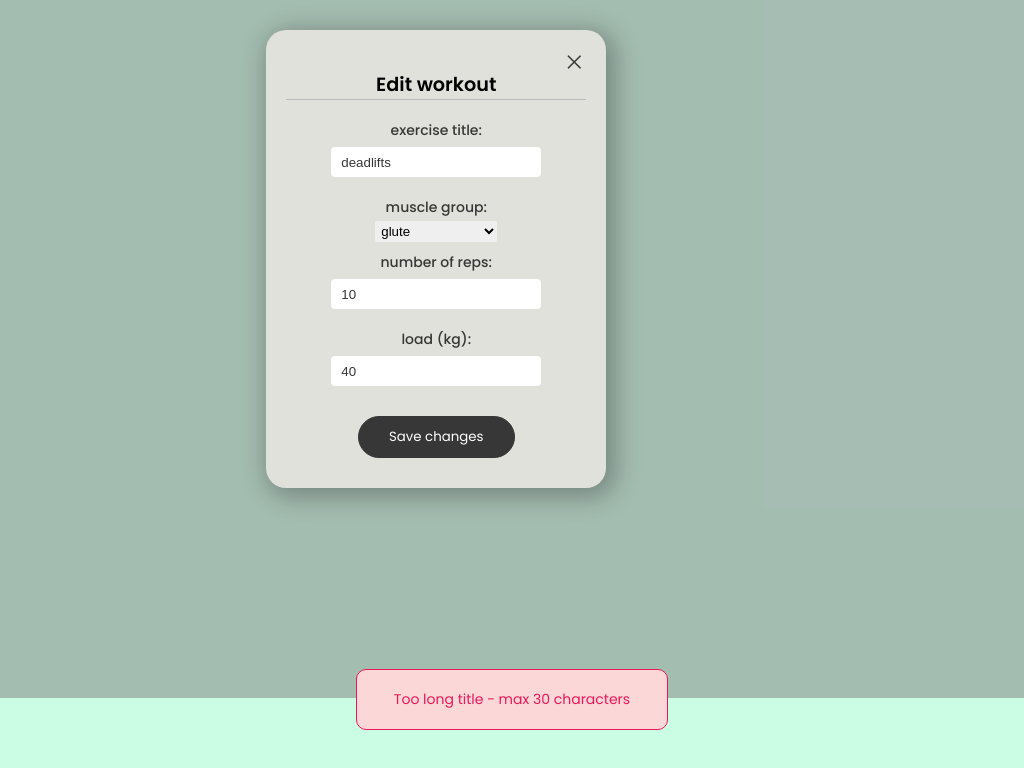
<EditWorkout/> › should signal input error when user attempts to submit form with title containing non-alphabetic characters
Replace the text in the field with test id "title" with "66768^&^*&%<>*" at (436, 162), box left=331, top=147, right=541, bottom=177
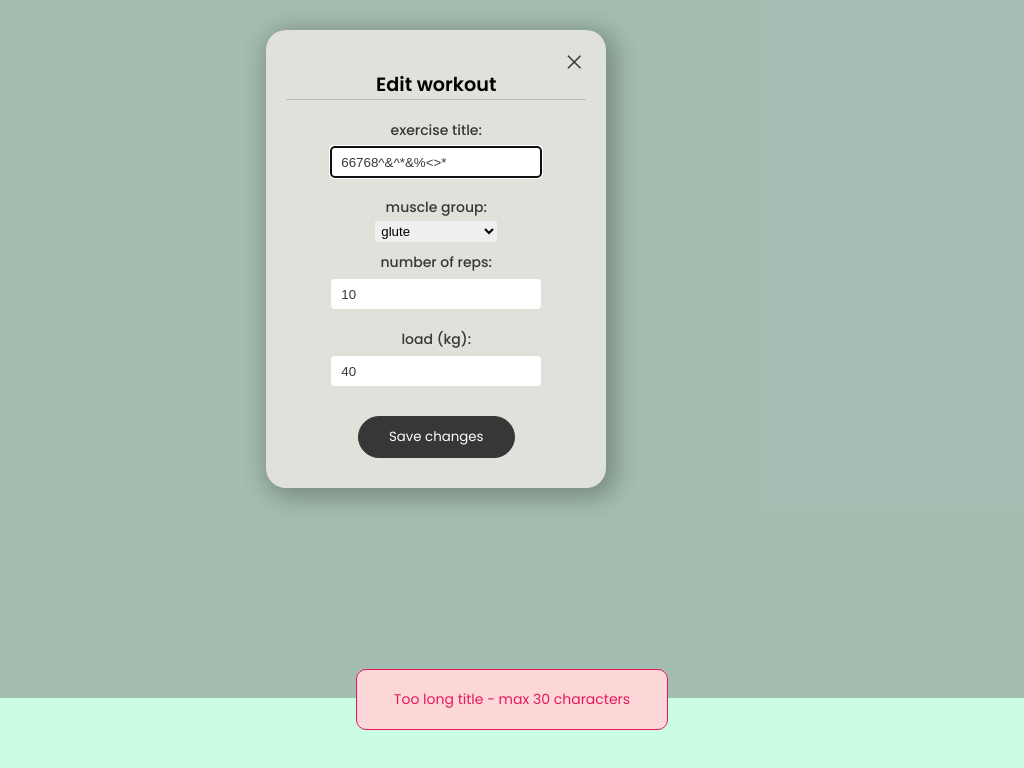
Click the button "Save changes" at (436, 437), box left=358, top=416, right=514, bottom=458
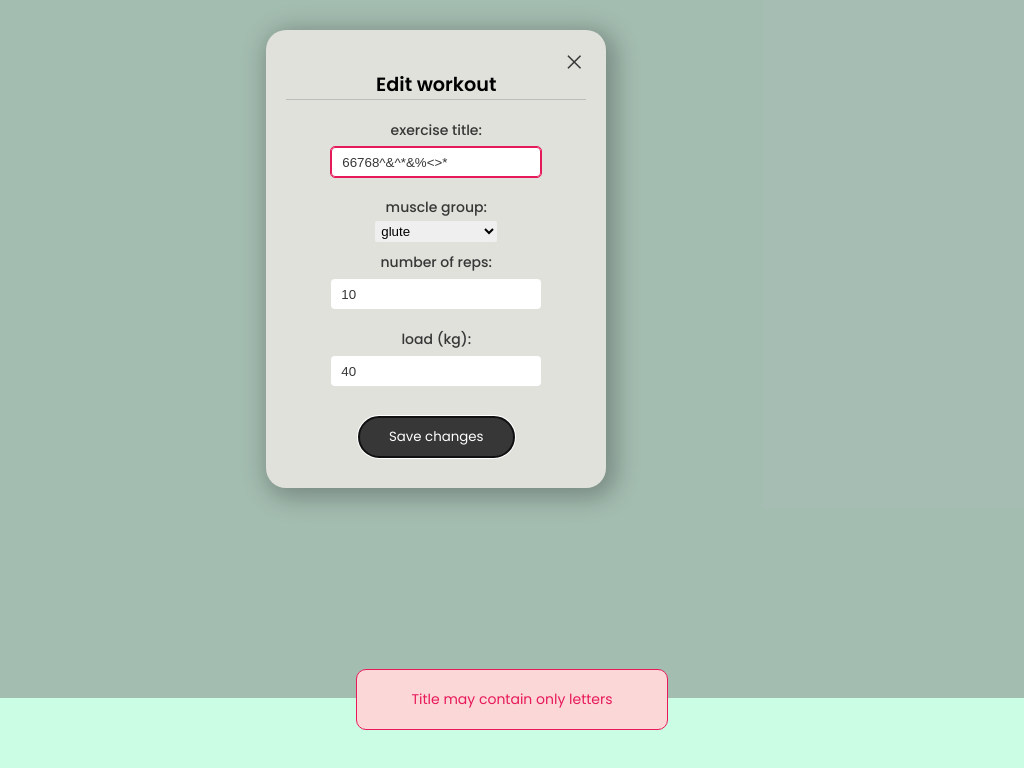
expect the message shows "may contain only letters": met, box left=411, top=689, right=612, bottom=709
